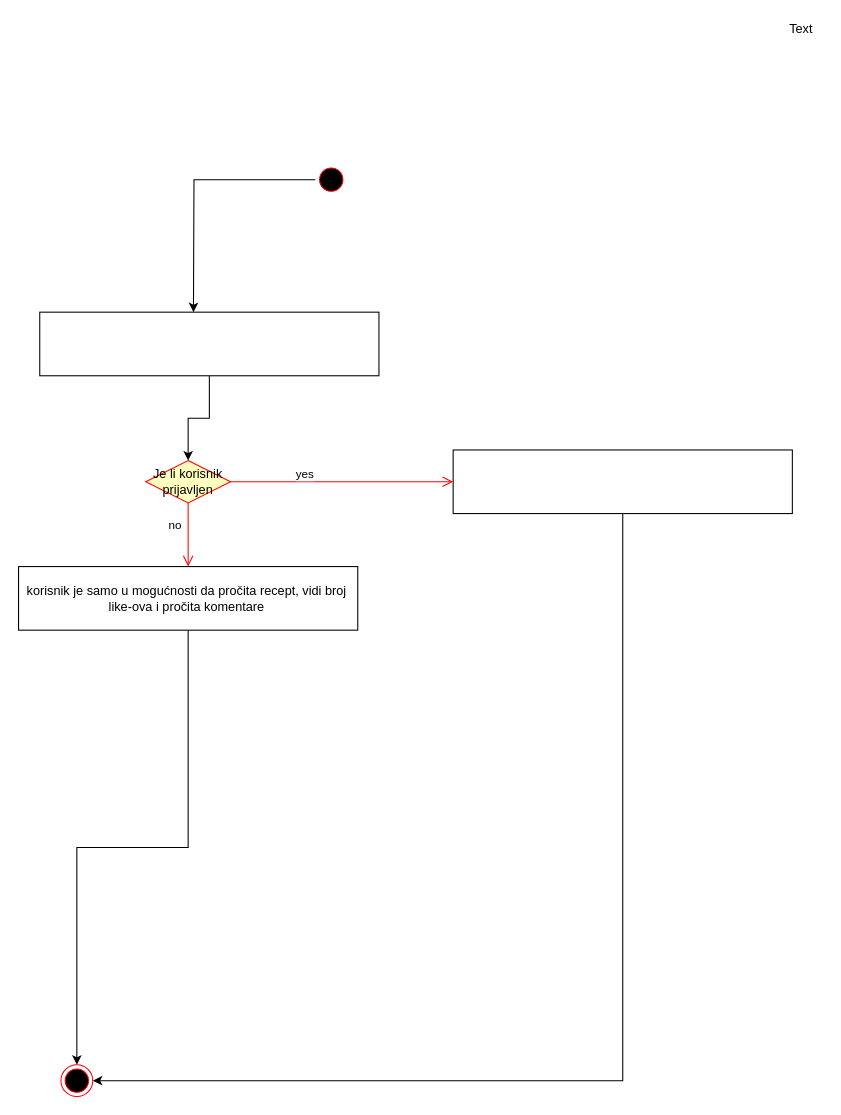
Image size: 841x1115. Some labels were removed from this diagram. Here are the shapes that lost their labels. From the top down, the centre of each, then its label:
(x=209, y=343): aplikacija otvara detaljan prikaz odabranog post-a
(x=622, y=481): korisnik može like-at, dislike-at i/ili komentirat odabrani post
